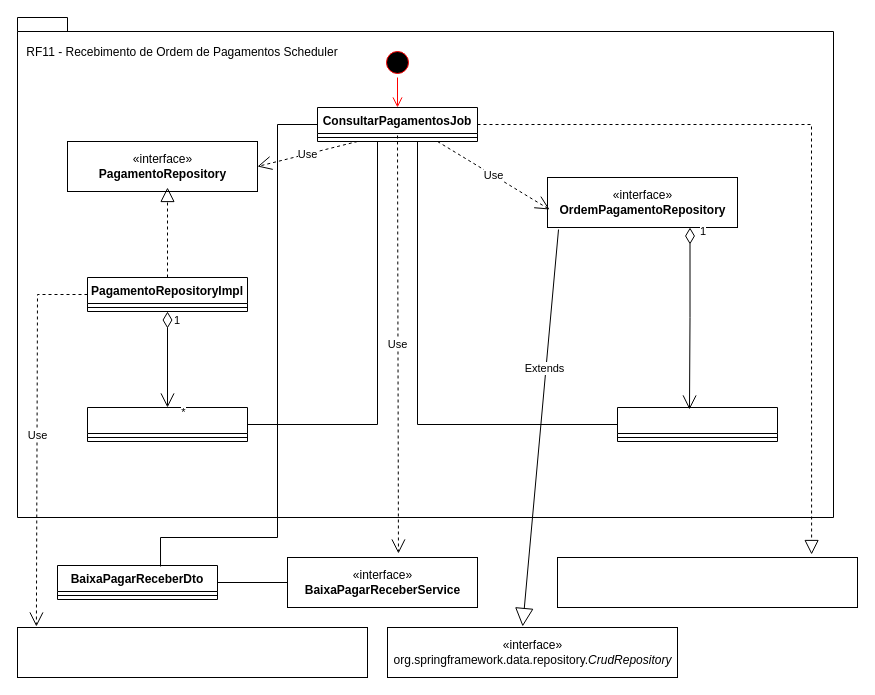
Image size: 875x695. Some labels were removed from this diagram. The centre of each missing label's shape, as x and y in pixels:
OrdemPagamento: the point at 697,424
Pagamento: the point at 167,424
«anottation» org.springframework.scheduling.annotation.Scheduled: the point at 707,582
«interface» org.springframework.web.reactive.function.client.WebClient: the point at 192,652
